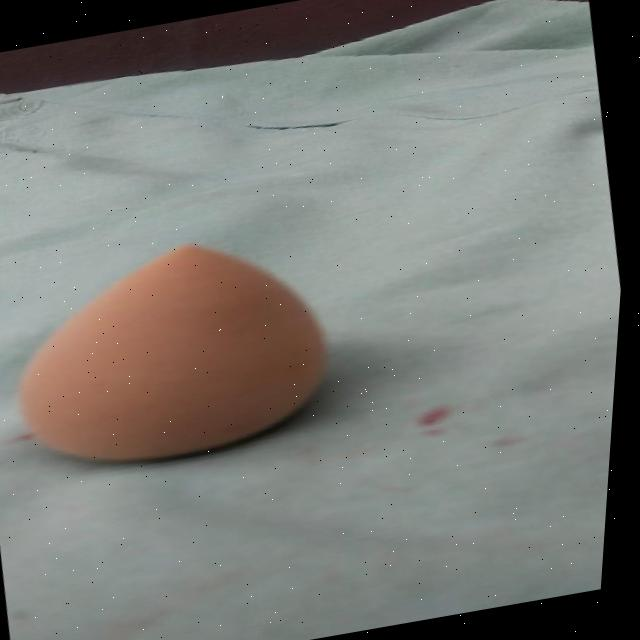beauty blender: (0, 202, 399, 499)
